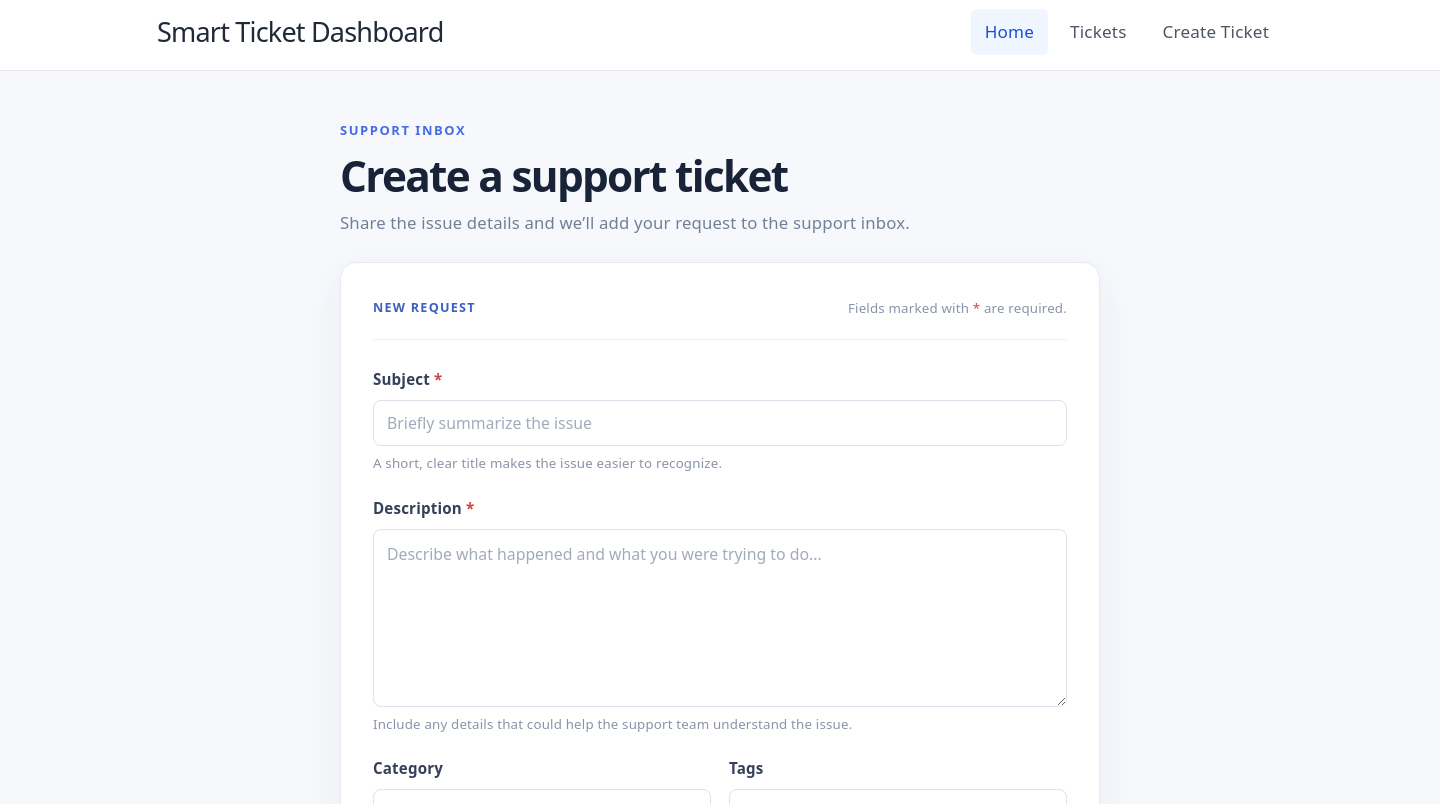
it: TicketForm › submits trimmed ticket details and displays the created ticket ID
In the field labelled "Subject *": {"x": 720, "y": 423} x1=373 y1=400 x2=1067 y2=446, type "  Login issue  "
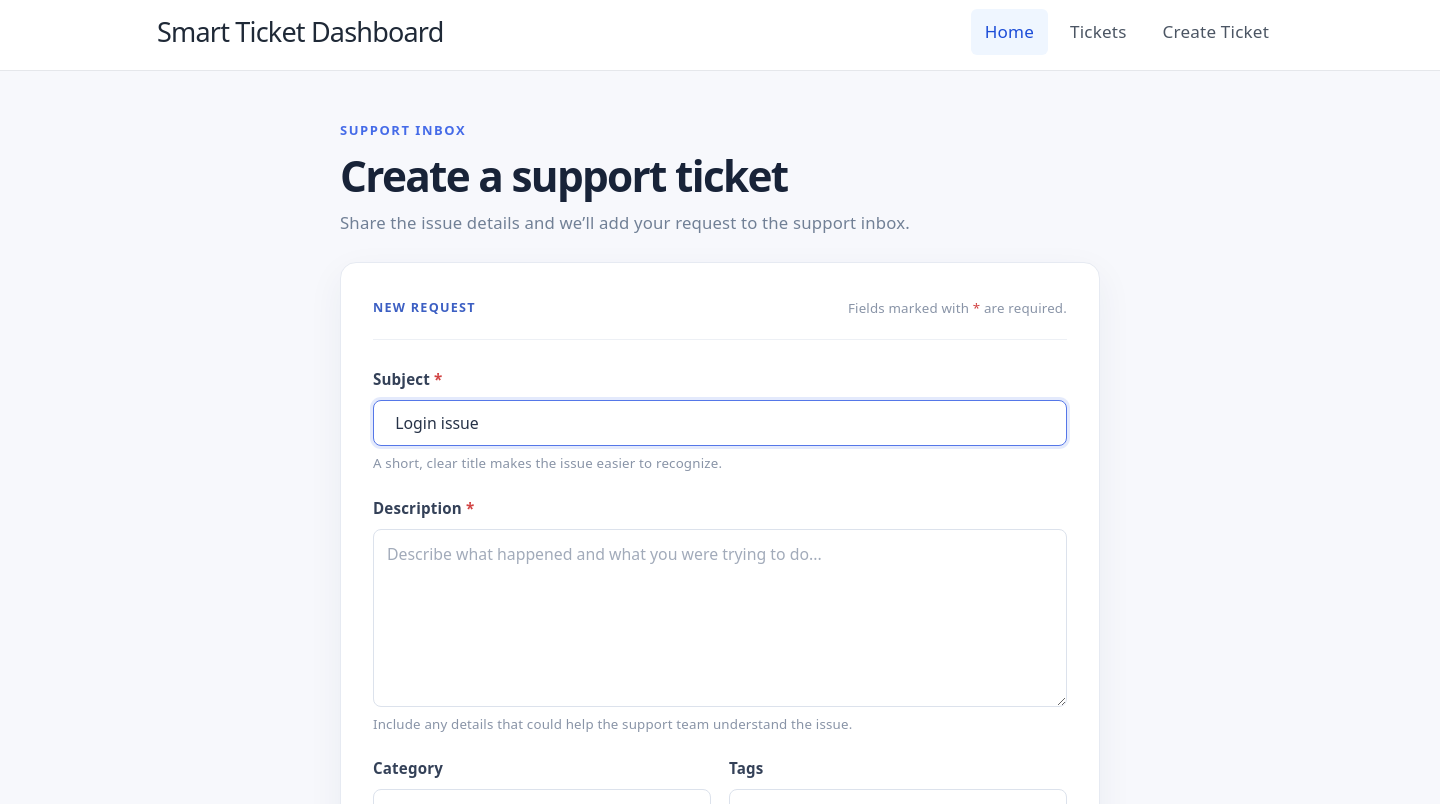
In the text box labelled "Description *": {"x": 720, "y": 618} x1=373 y1=529 x2=1067 y2=707, type "  Cannot sign in  "
(page scrolled)
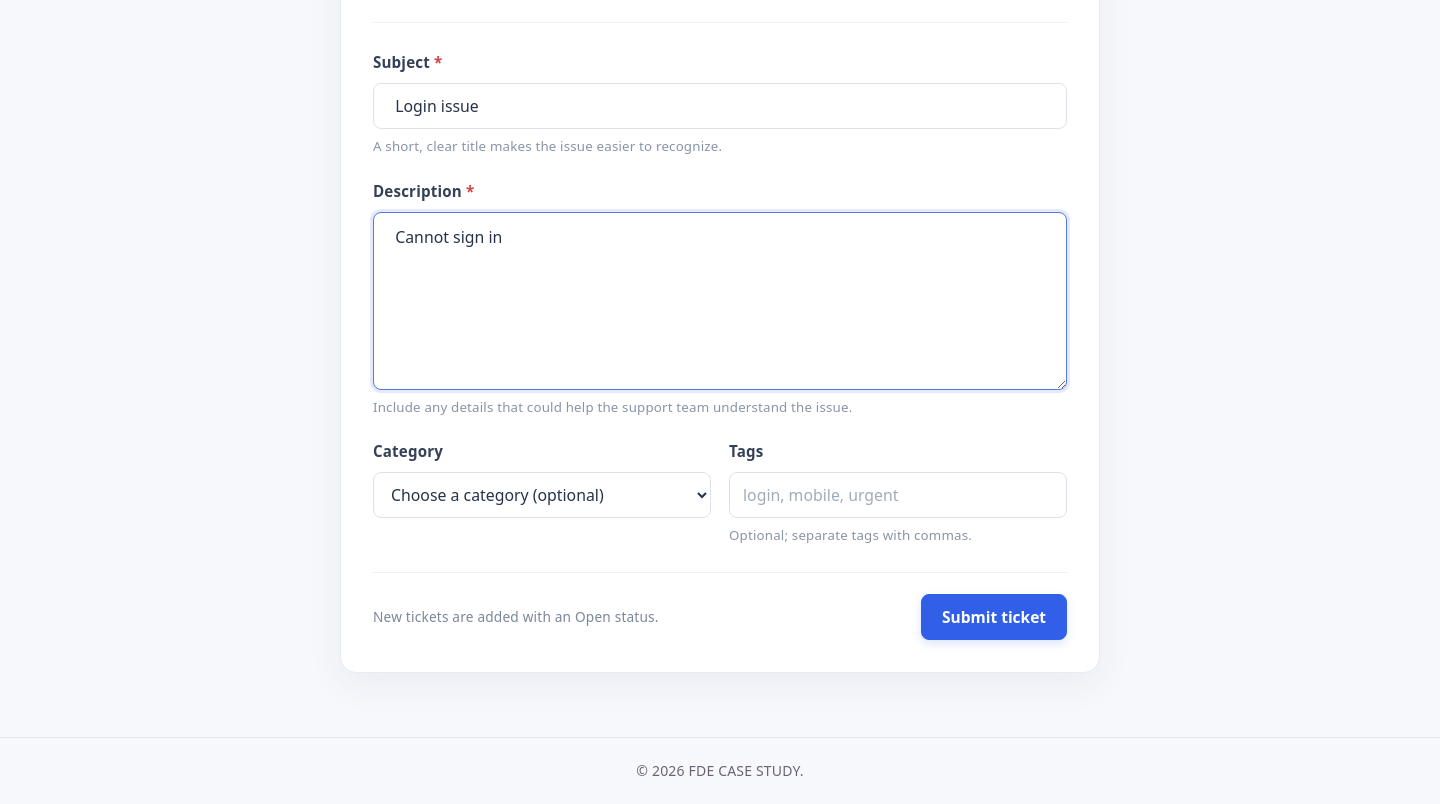
Select "Account access" in the dropdown labelled "Category": {"x": 542, "y": 495} x1=373 y1=472 x2=711 y2=518
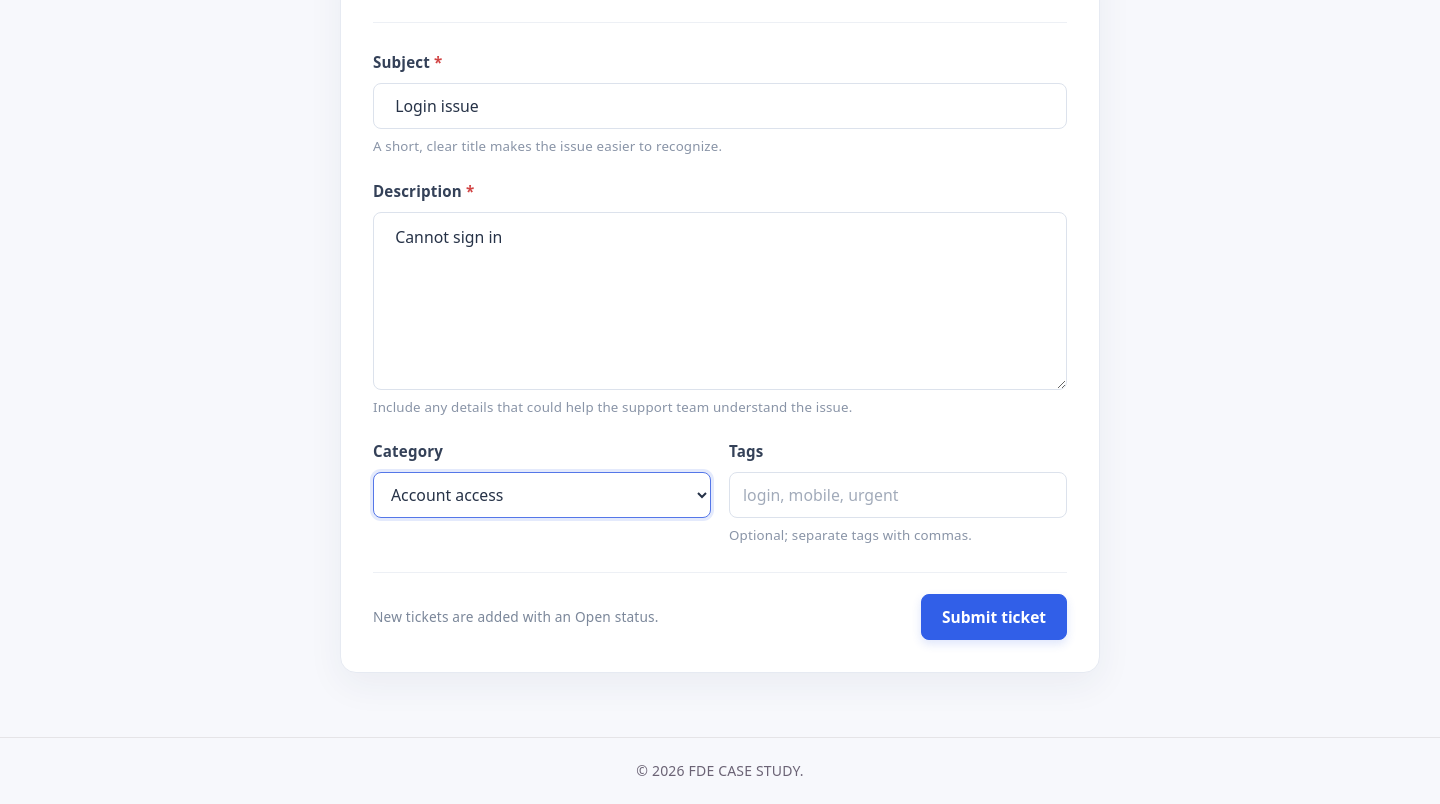
In the field labelled "Tags": {"x": 898, "y": 495} x1=729 y1=472 x2=1067 y2=518, type " login, urgent , "
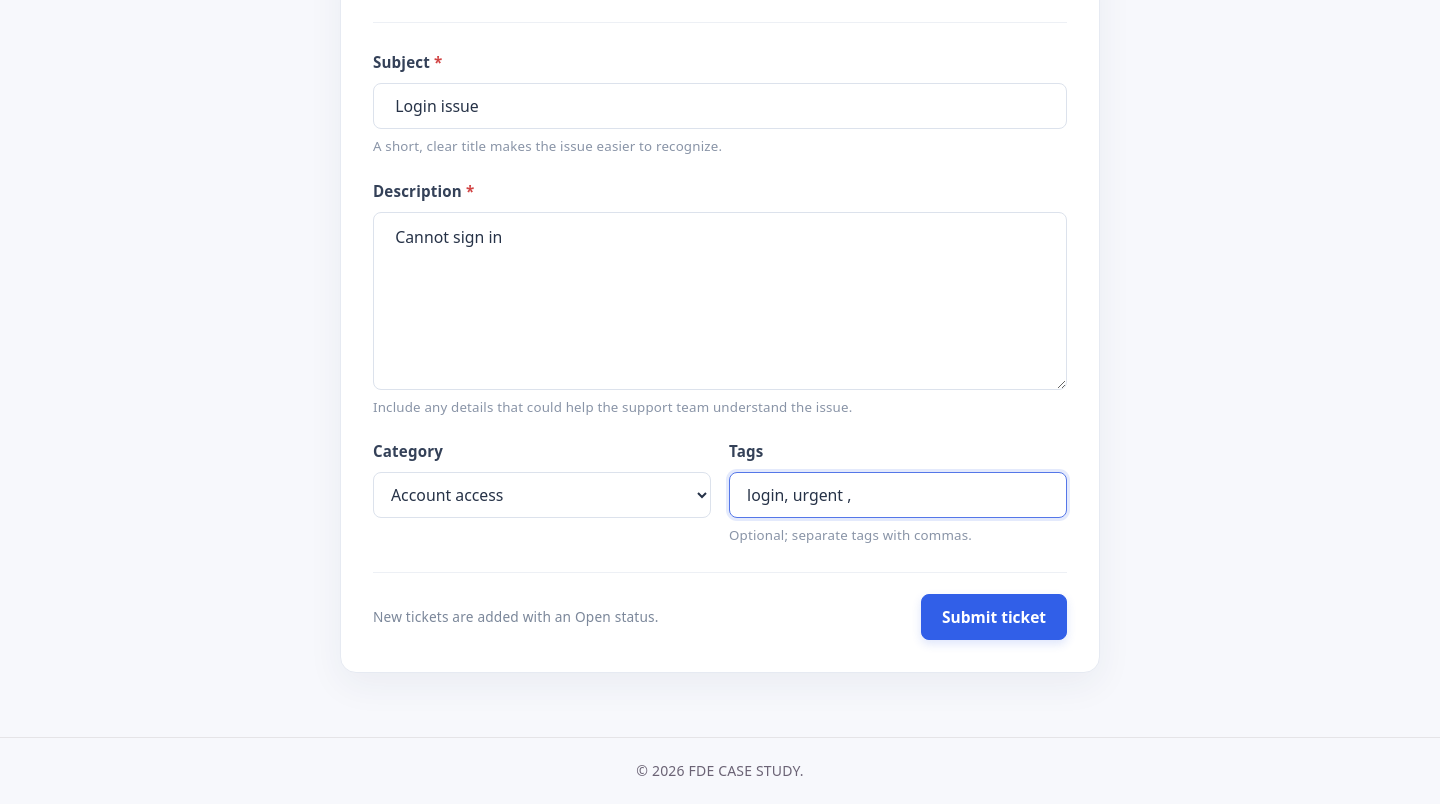
Click the button "Submit ticket": {"x": 994, "y": 617} x1=921 y1=594 x2=1067 y2=640
(page scrolled)
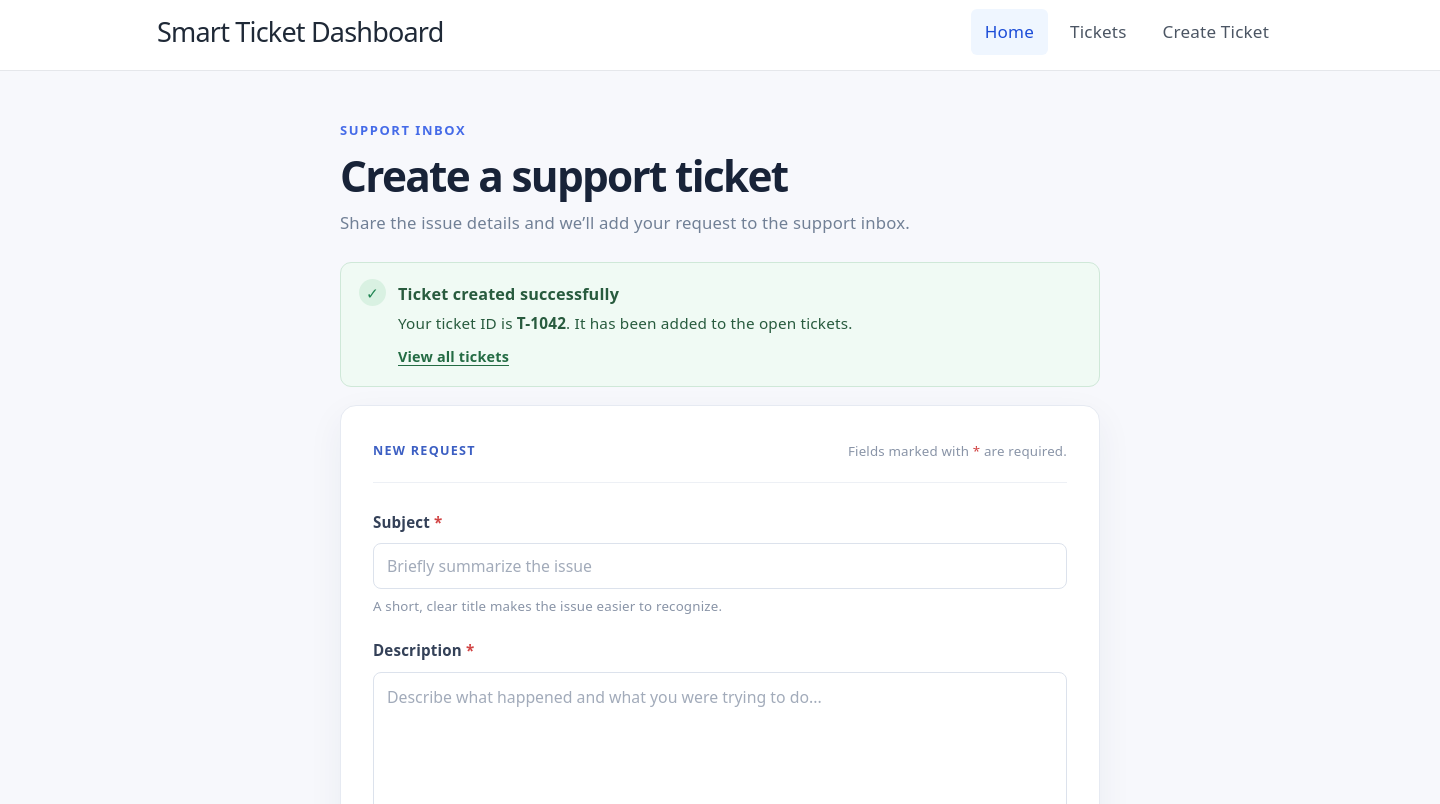
Expected: the text "T-1042" is shown, x1=517 y1=313 x2=566 y2=333
Expected: the message shows "Ticket created successfully", x1=398 y1=283 x2=619 y2=305
